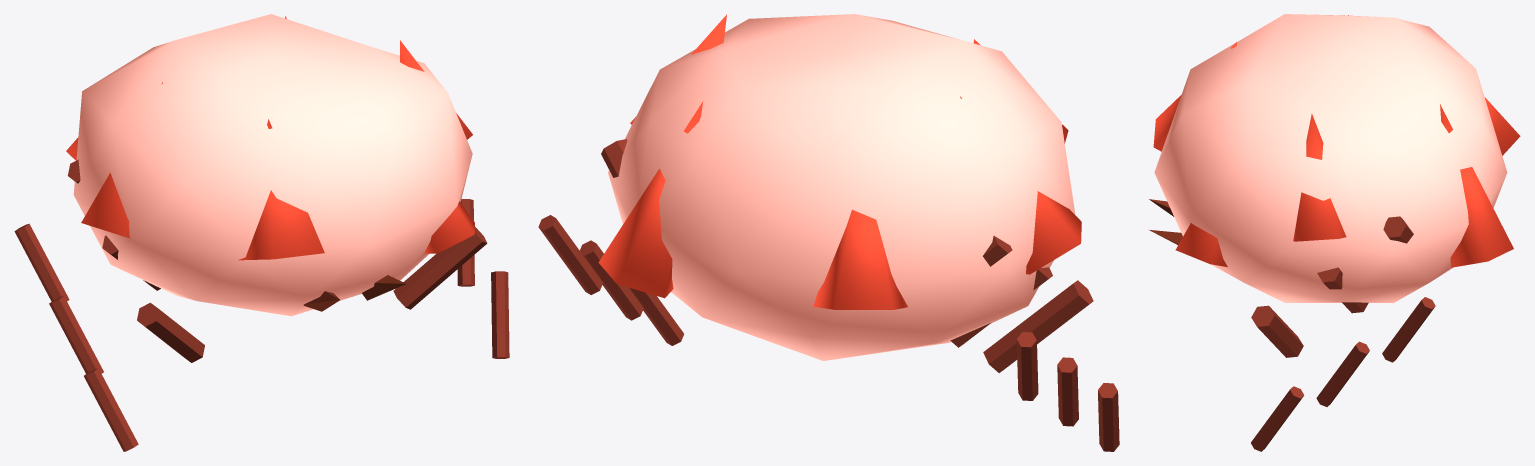
Rendered from enemy_glitchbug_v2.glb.
3 renders of one model, left to right at view 1: azimuth 30°, elevation 25°; view 2: azimuth 150°, elevation 25°; view 3: azimuth 270°, elevation 25°, orthographic. The views are drawn at different scales.
Visible parts, largest first — view 1: enemy_glitchbug_body, enemy_glitchbug_spike_4, enemy_glitchbug_leg_R_0_upper, enemy_glitchbug_leg_L_0_upper, enemy_glitchbug_spike_3, enemy_glitchbug_leg_R_0_lower, enemy_glitchbug_leg_L_0_lower, enemy_glitchbug_leg_L_1_lower, enemy_glitchbug_leg_L_2_lower, enemy_glitchbug_spike_5, enemy_glitchbug_leg_R_1_lower, enemy_glitchbug_mandible_R; view 2: enemy_glitchbug_body, enemy_glitchbug_spike_2, enemy_glitchbug_spike_1, enemy_glitchbug_leg_L_0_upper, enemy_glitchbug_spike_3, enemy_glitchbug_leg_R_2_lower, enemy_glitchbug_leg_R_1_lower, enemy_glitchbug_leg_L_1_lower, enemy_glitchbug_leg_L_2_lower, enemy_glitchbug_leg_L_0_lower, enemy_glitchbug_leg_R_0_lower, enemy_glitchbug_leg_R_2_upper; view 3: enemy_glitchbug_body, enemy_glitchbug_spike_1, enemy_glitchbug_spike_0, enemy_glitchbug_leg_R_0_upper, enemy_glitchbug_spike_5, enemy_glitchbug_leg_R_2_lower, enemy_glitchbug_leg_R_0_lower, enemy_glitchbug_leg_R_1_lower, enemy_glitchbug_spike_2, enemy_glitchbug_spike_4, enemy_glitchbug_leg_R_1_upper, enemy_glitchbug_leg_R_2_upper.
Part boxes in pixels (left/top/right/bottom): enemy_glitchbug_body: left=73, top=14, right=472, bottom=316; enemy_glitchbug_spike_4: left=238, top=119, right=324, bottom=260; enemy_glitchbug_leg_R_0_upper: left=393, top=227, right=487, bottom=309; enemy_glitchbug_leg_L_0_upper: left=137, top=302, right=204, bottom=362; enemy_glitchbug_spike_3: left=81, top=82, right=162, bottom=237; enemy_glitchbug_leg_R_0_lower: left=491, top=271, right=509, bottom=358; enemy_glitchbug_leg_L_0_lower: left=84, top=368, right=138, bottom=451; enemy_glitchbug_leg_L_1_lower: left=49, top=296, right=103, bottom=373; enemy_glitchbug_leg_L_2_lower: left=14, top=223, right=69, bottom=301; enemy_glitchbug_spike_5: left=424, top=201, right=474, bottom=253; enemy_glitchbug_leg_R_1_lower: left=457, top=199, right=474, bottom=286; enemy_glitchbug_mandible_R: left=362, top=275, right=406, bottom=300; enemy_glitchbug_body: left=608, top=14, right=1075, bottom=360; enemy_glitchbug_spike_2: left=813, top=209, right=907, bottom=309; enemy_glitchbug_spike_1: left=598, top=101, right=703, bottom=298; enemy_glitchbug_leg_L_0_upper: left=983, top=280, right=1093, bottom=372; enemy_glitchbug_spike_3: left=960, top=96, right=1081, bottom=274; enemy_glitchbug_leg_R_2_lower: left=538, top=215, right=602, bottom=294; enemy_glitchbug_leg_R_1_lower: left=580, top=240, right=643, bottom=320; enemy_glitchbug_leg_L_1_lower: left=1057, top=357, right=1078, bottom=426; enemy_glitchbug_leg_L_2_lower: left=1016, top=332, right=1038, bottom=400; enemy_glitchbug_leg_L_0_lower: left=1098, top=383, right=1119, bottom=451; enemy_glitchbug_leg_R_0_lower: left=629, top=287, right=683, bottom=345; enemy_glitchbug_leg_R_2_upper: left=601, top=139, right=627, bottom=177; enemy_glitchbug_body: left=1154, top=14, right=1507, bottom=302; enemy_glitchbug_spike_1: left=1440, top=104, right=1513, bottom=267; enemy_glitchbug_spike_0: left=1293, top=113, right=1346, bottom=241; enemy_glitchbug_leg_R_0_upper: left=1251, top=305, right=1303, bottom=357; enemy_glitchbug_spike_5: left=1175, top=223, right=1227, bottom=267; enemy_glitchbug_leg_R_2_lower: left=1382, top=297, right=1435, bottom=362; enemy_glitchbug_leg_R_0_lower: left=1251, top=386, right=1304, bottom=451; enemy_glitchbug_leg_R_1_lower: left=1316, top=341, right=1369, bottom=406; enemy_glitchbug_spike_2: left=1484, top=97, right=1520, bottom=155; enemy_glitchbug_spike_4: left=1153, top=42, right=1236, bottom=151; enemy_glitchbug_leg_R_1_upper: left=1317, top=267, right=1368, bottom=313; enemy_glitchbug_leg_R_2_upper: left=1383, top=216, right=1413, bottom=243.
Bounding box in the file's own units: 0.5639 × 0.423 × 0.4533.
